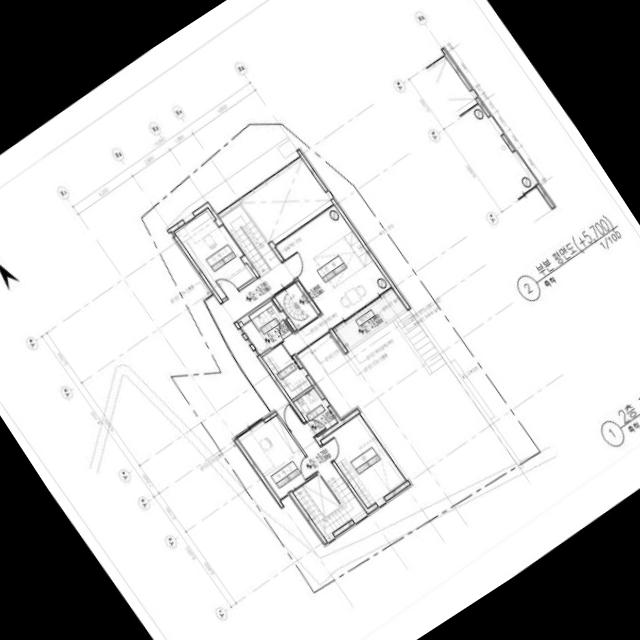background: (0, 0, 640, 640)
space_balconi: (332, 288, 406, 351)
space_bedroom: (275, 205, 390, 355), (320, 414, 405, 507)
space_dressroom: (261, 343, 311, 398)
space_living_room: (205, 263, 300, 428)
space_other: (174, 209, 255, 299), (239, 415, 316, 498), (274, 282, 317, 328), (290, 423, 329, 469)
space_staircase: (292, 463, 363, 537), (219, 204, 280, 276)
space_toilet: (237, 300, 292, 353), (293, 387, 336, 435)
